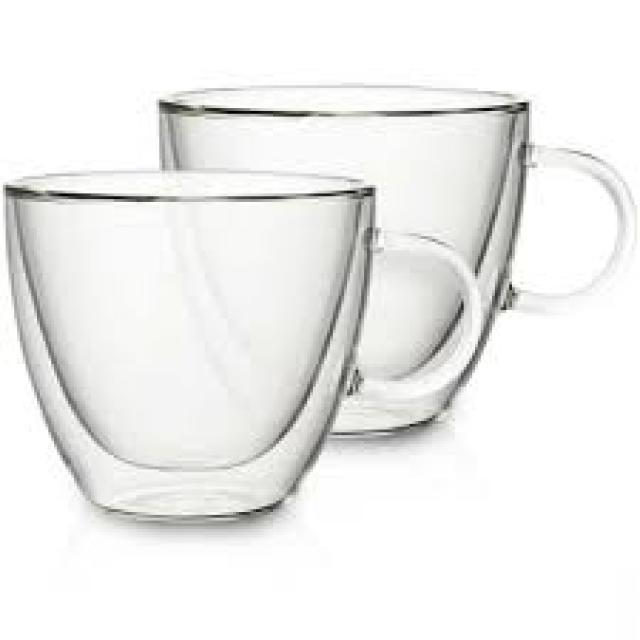Glass: (154, 86, 628, 436), (0, 169, 482, 511)
